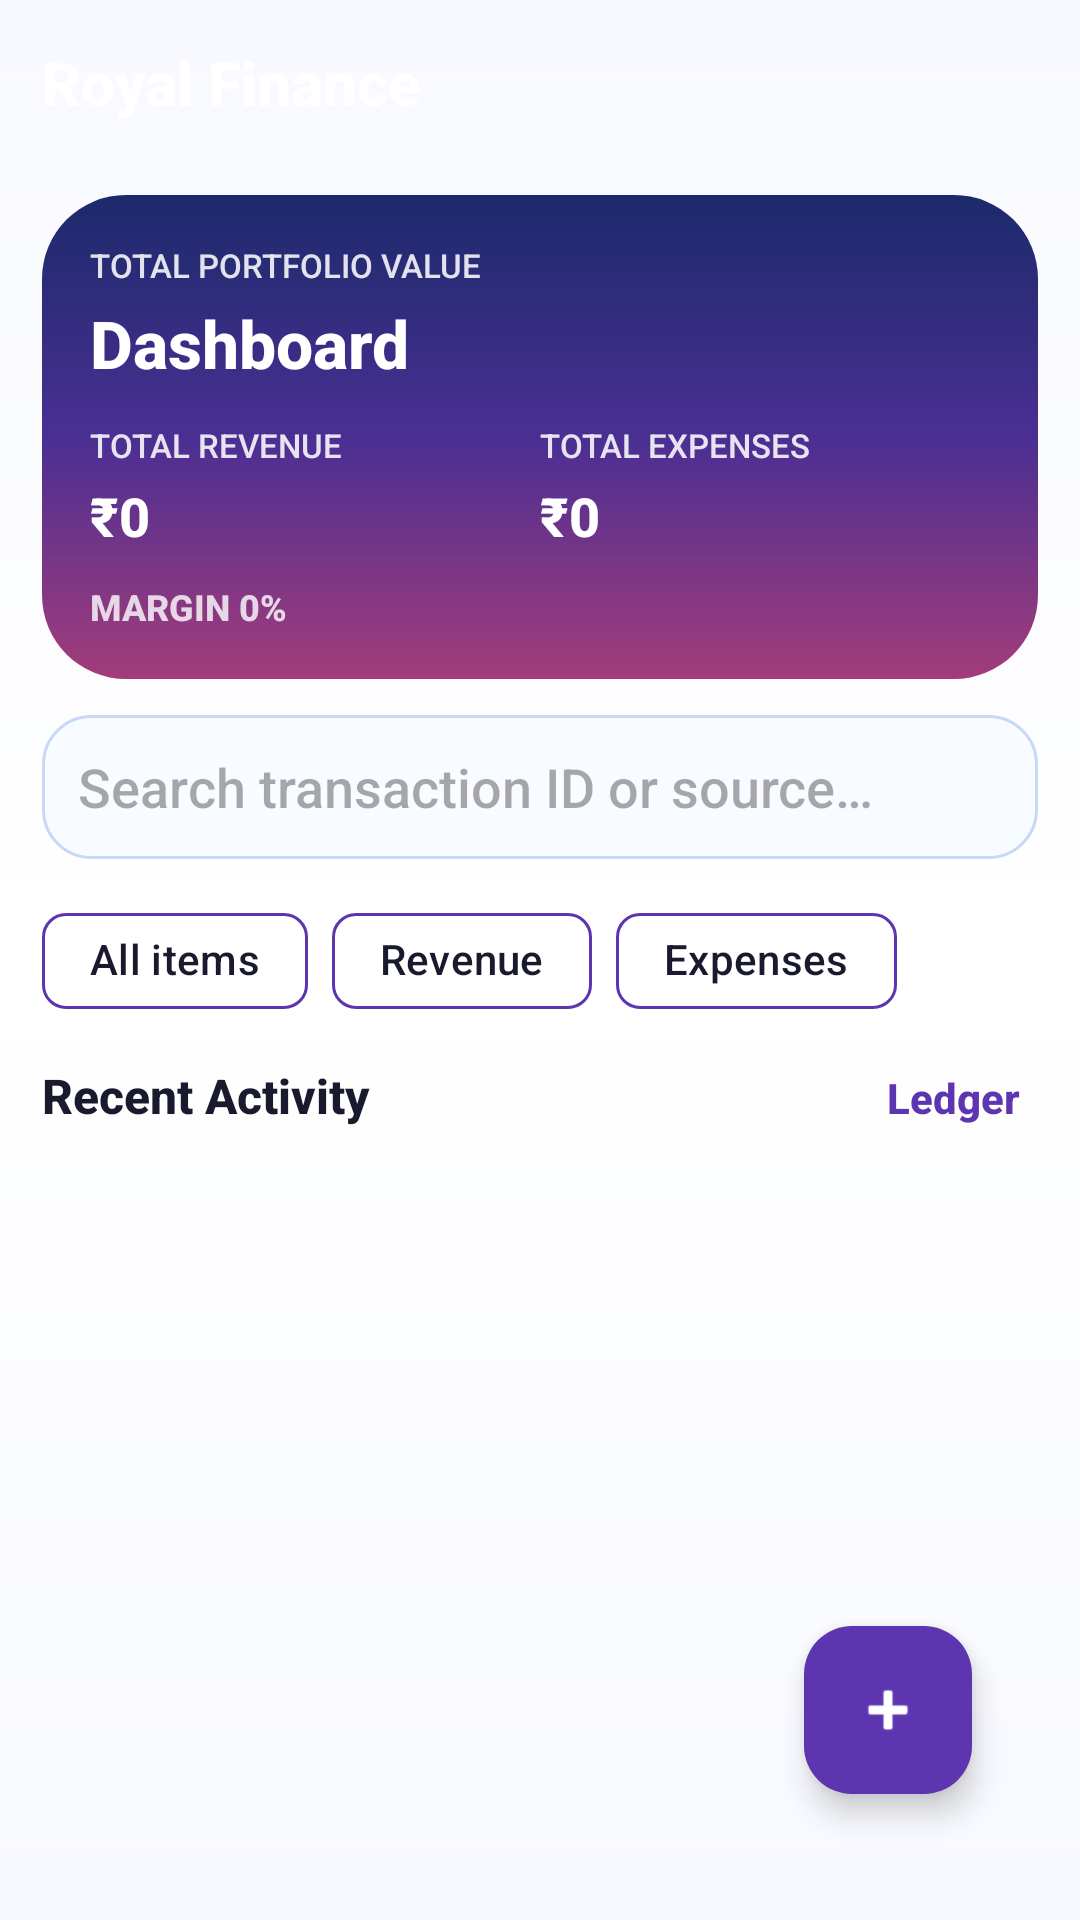

Screen size 1080x1920. Icon name, then its center in pixels as point (x, y):
Add transaction: point (889, 1718)
